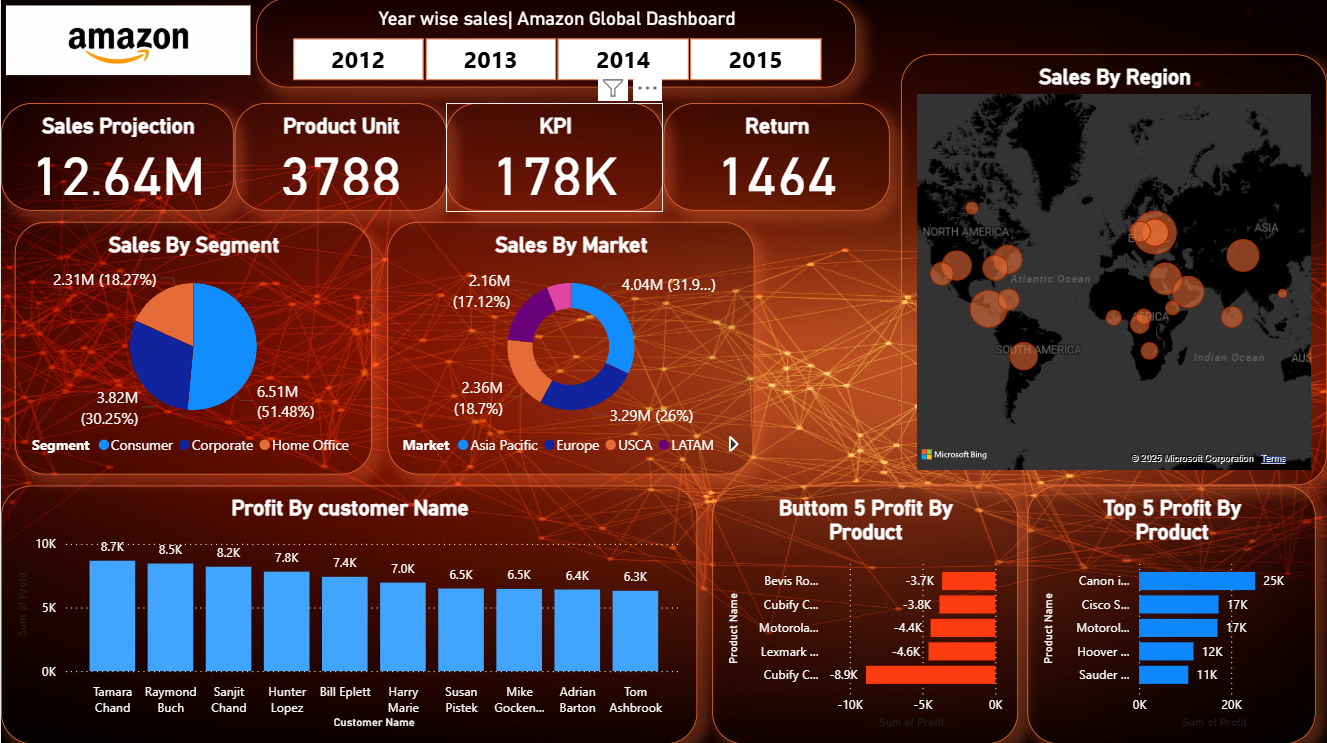

What the dashboard file says about the page in this screenshot:
{"tool":"powerbi","page":{"name":"Amazon Dashboard","canvas":[1280,720],"ordinal":0},"visuals":[{"type":"slicer","title":"Year wise sales| Amazon Global Dashboard","fields":{"Values":["Orders.Year"]},"box":[245.6,0,579.1,86.4],"z":0},{"type":"card","title":"Sales Projection","fields":{"Values":["Orders.Sales"]},"box":[0,101.5,225,104.3],"z":1000},{"type":"image","box":[0,0,245.6,81],"z":2000},{"type":"card","title":"Product Unit","fields":{"Values":["Orders.Product Name"]},"box":[225,101.5,204.5,104.3],"z":3000},{"type":"card","title":"KPI","fields":{"Values":["Orders.Quantity"]},"box":[429.5,101.5,209.9,104.3],"z":4000},{"type":"card","title":"Return","fields":{"Values":["Orders.Ship Date"]},"box":[639.5,101.5,218.2,104.3],"z":5000},{"type":"pieChart","title":"Sales By Segment","fields":{"Category":["Orders.Segment"],"Y":["Orders.Sales"]},"box":[13.7,215.4,344.4,244.3],"z":6000},{"type":"donutChart","title":"Sales By Market","fields":{"Y":["Orders.Sales"],"Category":["Orders.Market"]},"box":[373.2,215.4,354,244.3],"z":7000},{"type":"columnChart","title":"Profit By customer Name","fields":{"Category":["Orders.Customer Name"],"Y":["Orders.Profit"]},"box":[0,470.7,672.4,249.7],"z":8000},{"type":"clusteredBarChart","title":"Buttom 5 Profit By Product","fields":{"Y":["Orders.Profit"],"Category":["Orders.Product Name"]},"box":[686.1,470.7,295,249.7],"z":9000},{"type":"clusteredBarChart","title":"Top 5 Profit By Product ","fields":{"Y":["Orders.Profit"],"Category":["Orders.Product Name"]},"box":[990.7,470.7,278.6,249.7],"z":10000},{"type":"map","title":"Sales By Region","fields":{"Category":["Orders.Region"],"Size":["Orders.Sales"]},"box":[868.6,54.3,411.4,416.2],"z":11000}]}

Visuals, with their boxes in screenshot pixels (x1, y1, x2, y2), scaled from the page's 1280x720 canvas onto the 1327x743 screenshot:
"Year wise sales| Amazon Global Dashboard" slicer: box(255, 0, 855, 89)
"Sales Projection" card: box(0, 105, 233, 212)
image: box(0, 0, 255, 84)
"Product Unit" card: box(233, 105, 445, 212)
"KPI" card: box(445, 105, 663, 212)
"Return" card: box(663, 105, 889, 212)
"Sales By Segment" pieChart: box(14, 222, 371, 474)
"Sales By Market" donutChart: box(387, 222, 754, 474)
"Profit By customer Name" columnChart: box(0, 486, 697, 742)
"Buttom 5 Profit By Product" clusteredBarChart: box(711, 486, 1017, 742)
"Top 5 Profit By Product " clusteredBarChart: box(1027, 486, 1316, 742)
"Sales By Region" map: box(900, 56, 1326, 486)
